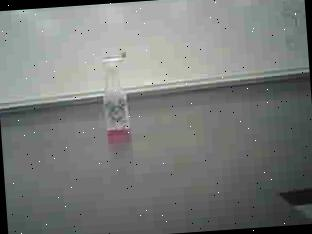hazard: (92, 50, 140, 148)
